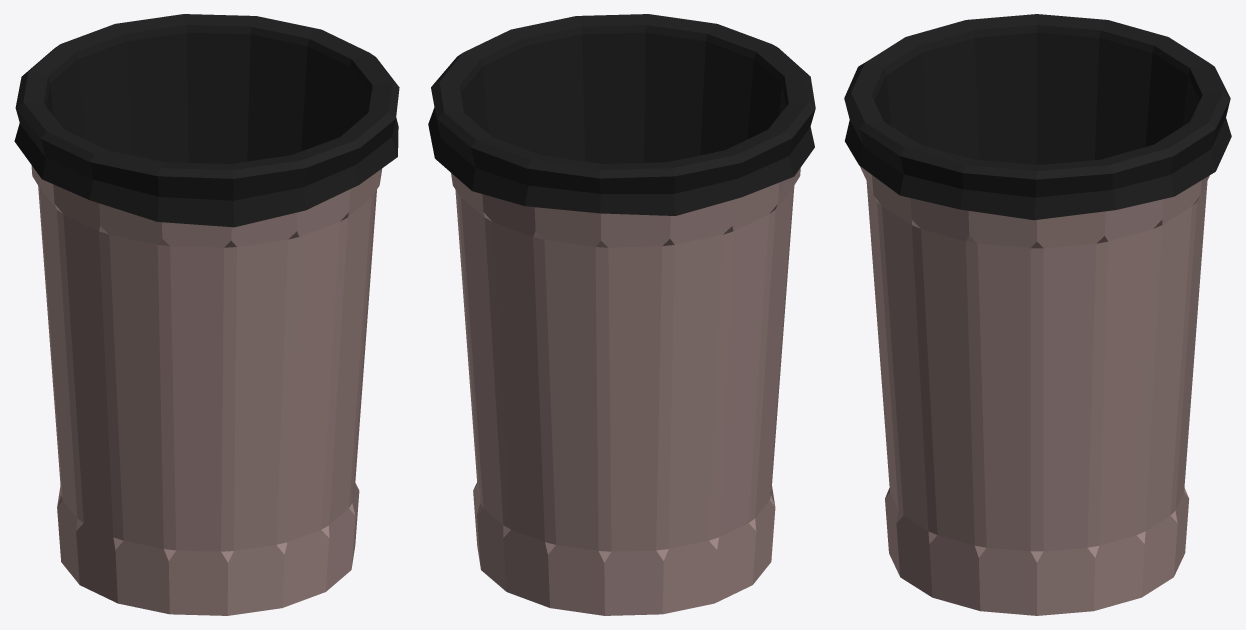
File: Trashcannolid.glb
3 renders of one model, left to right at view 1: azimuth 30°, elevation 25°; view 2: azimuth 150°, elevation 25°; view 3: azimuth 270°, elevation 25°, orthographic.
Parts seen in each view (by area): view 1: Trashcan; view 2: Trashcan; view 3: Trashcan.
Boxes of the visible parts, x1,y1,x2,y2 form: Trashcan: [14, 14, 399, 615]; Trashcan: [428, 14, 815, 615]; Trashcan: [844, 14, 1231, 615].
Bounding box in the file's own units: 0.6366 × 0.8372 × 0.6383.
